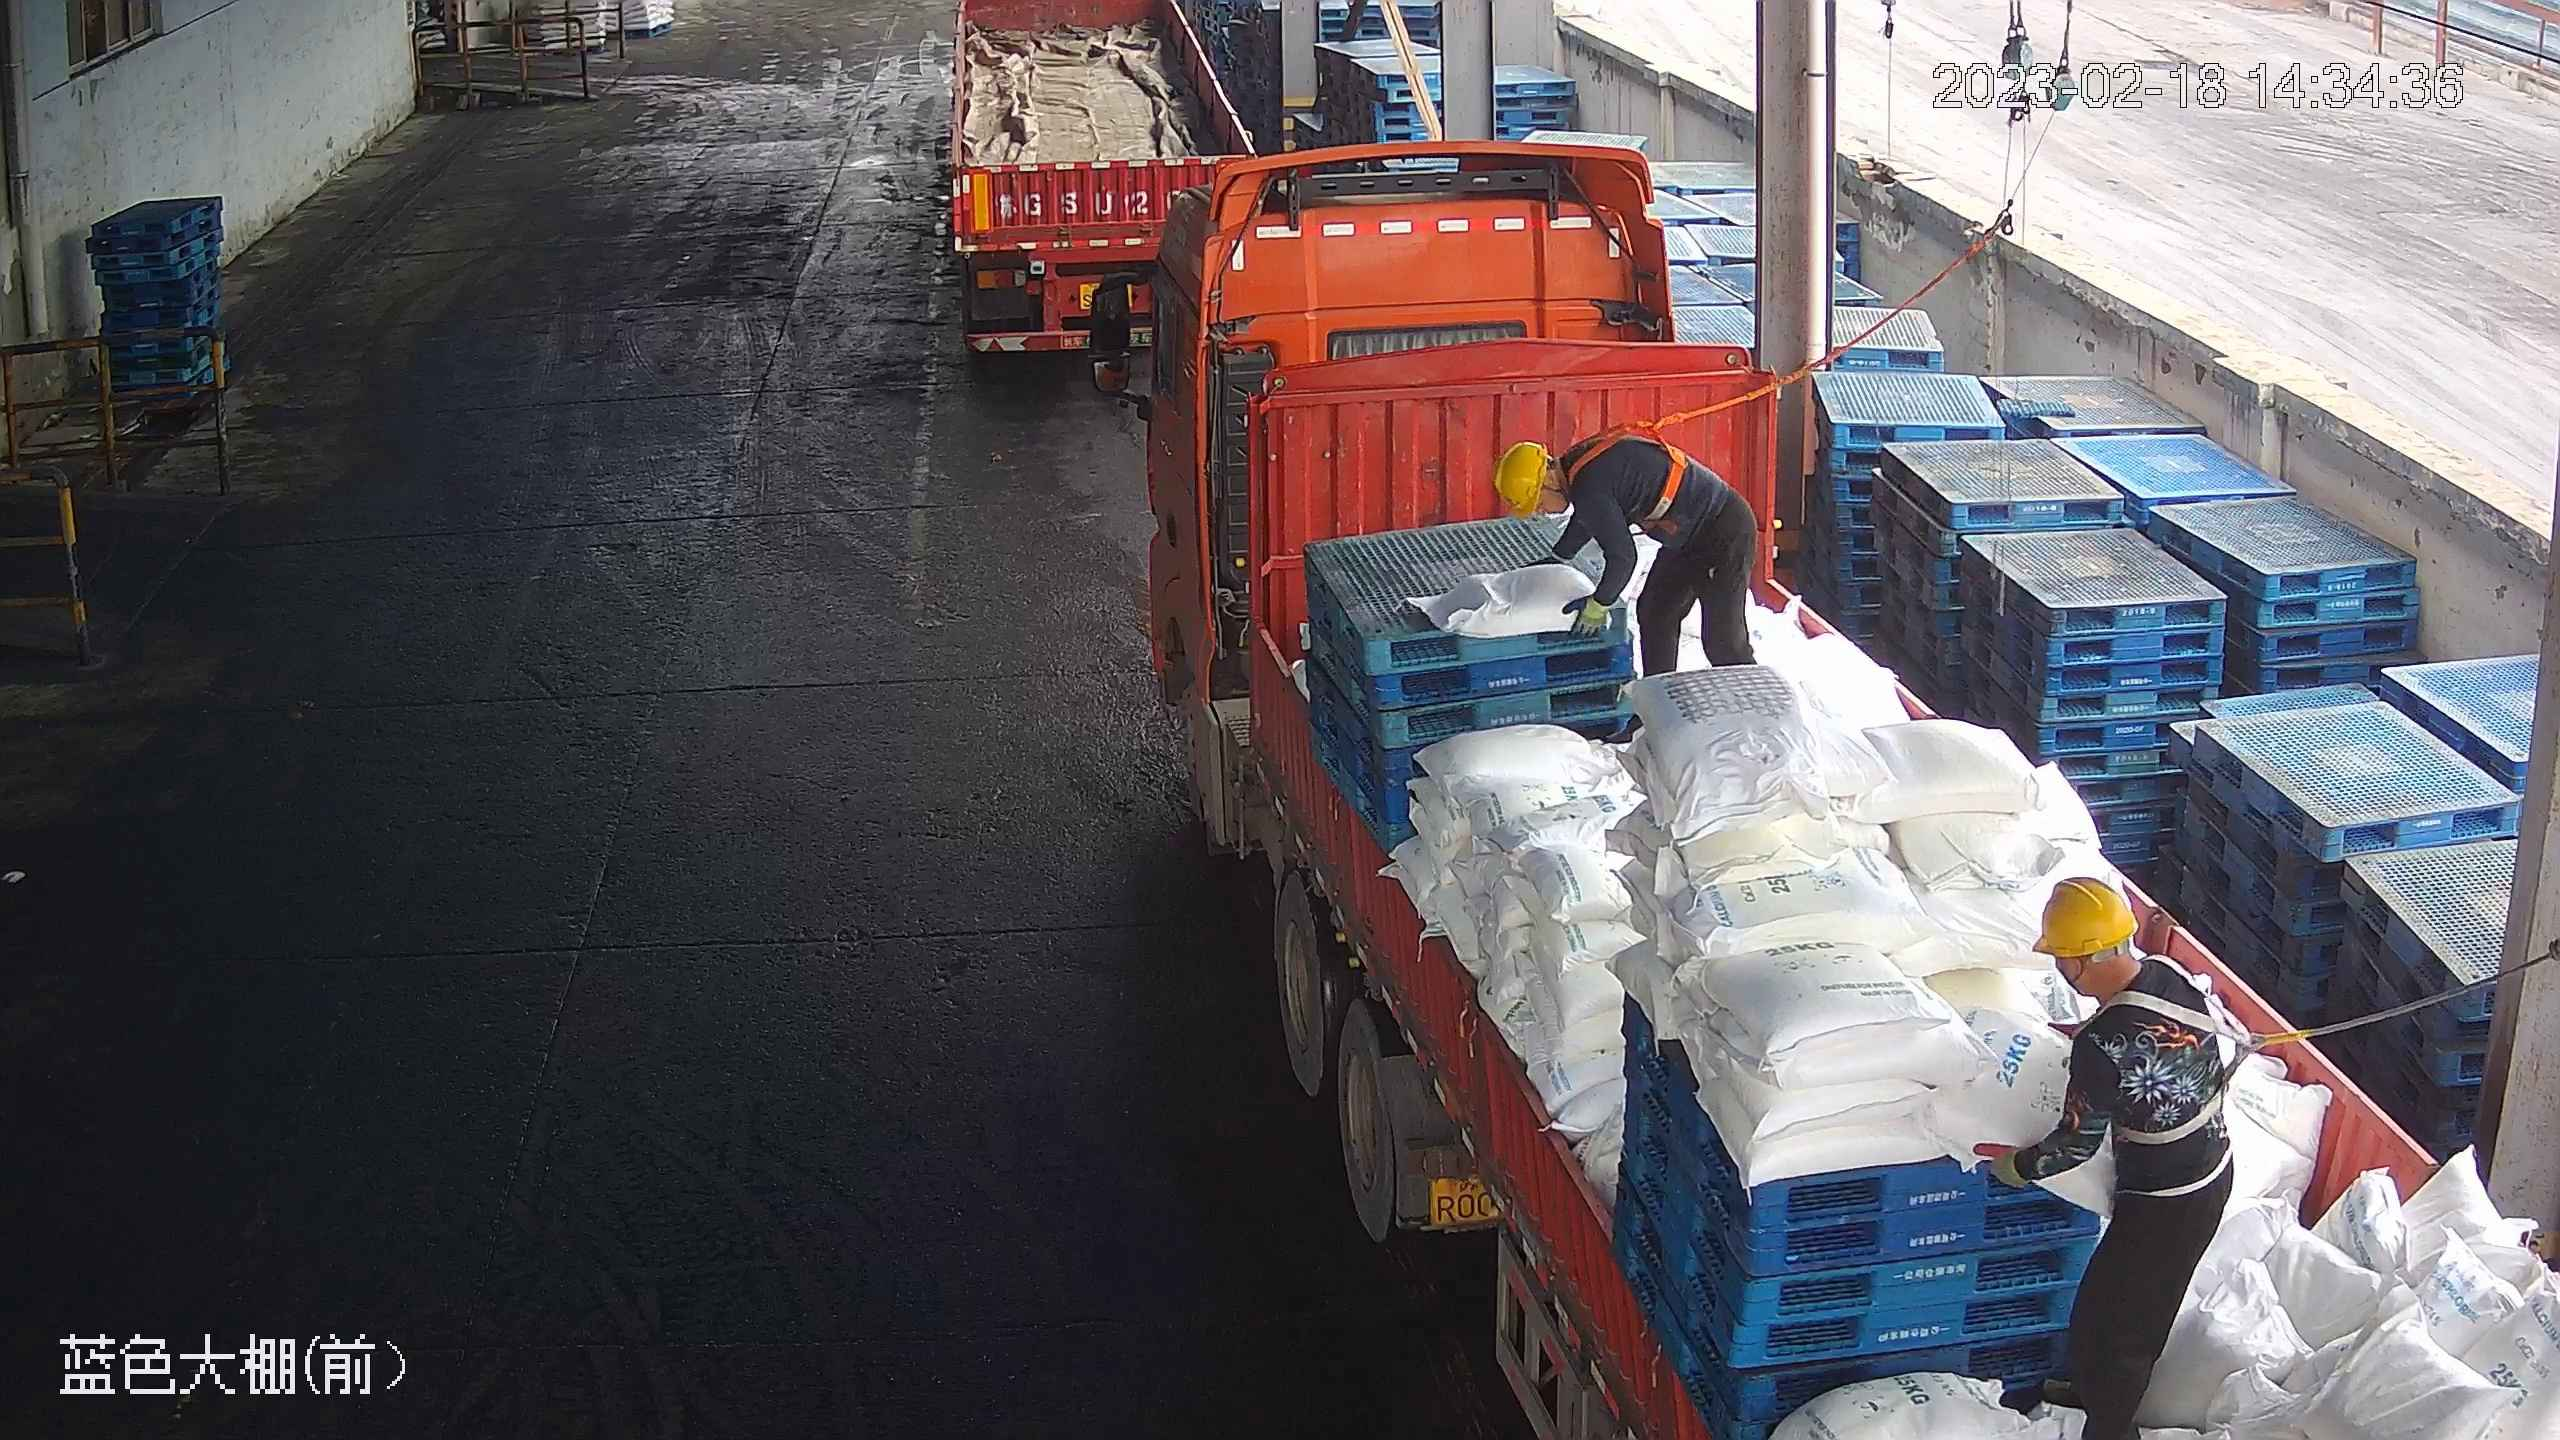belt: (2071, 954, 2300, 1149), (1557, 408, 1688, 520)
head: (2017, 878, 2230, 1098), (1486, 435, 1656, 557)
helmet: (2034, 876, 2135, 962), (1490, 440, 1551, 518)
people: (1974, 879, 2232, 1440), (1490, 432, 1764, 674)
truck: (1090, 130, 2560, 1440), (940, 1, 1279, 367)
